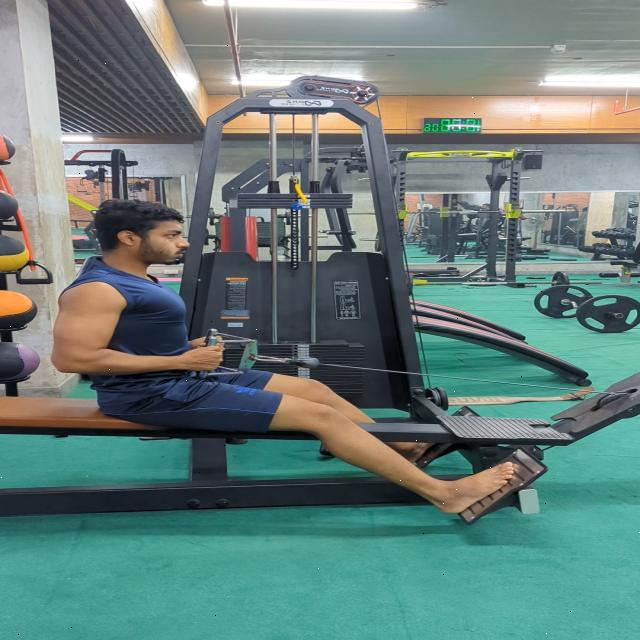Normal_RowingMachineExercise: (48, 199, 523, 515)
